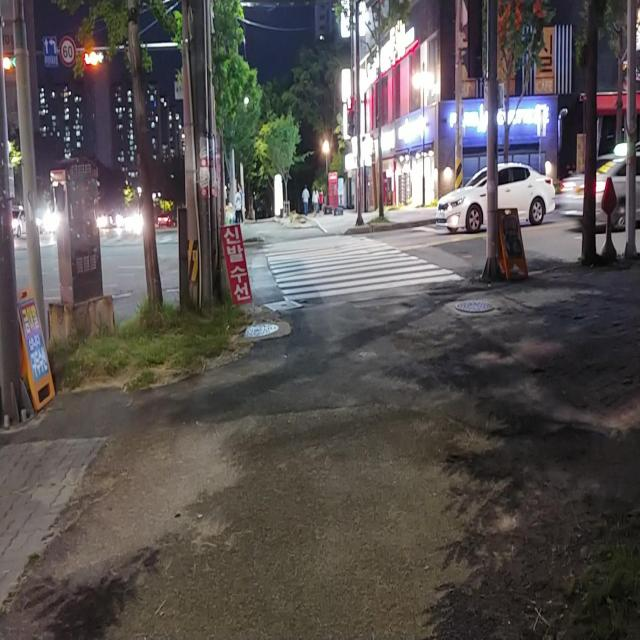빨간불: (347, 95, 355, 138)
횡단보도: (261, 232, 466, 303)
